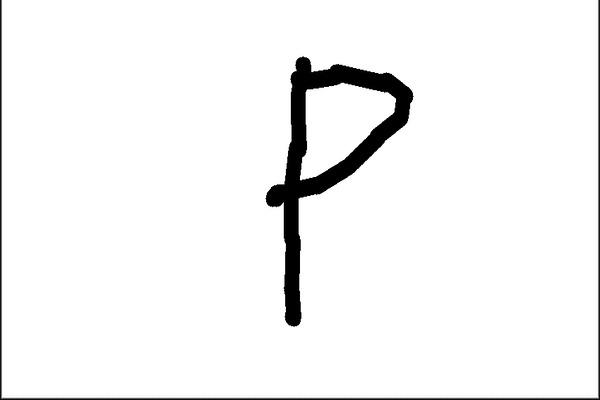P: (252, 43, 420, 336)
